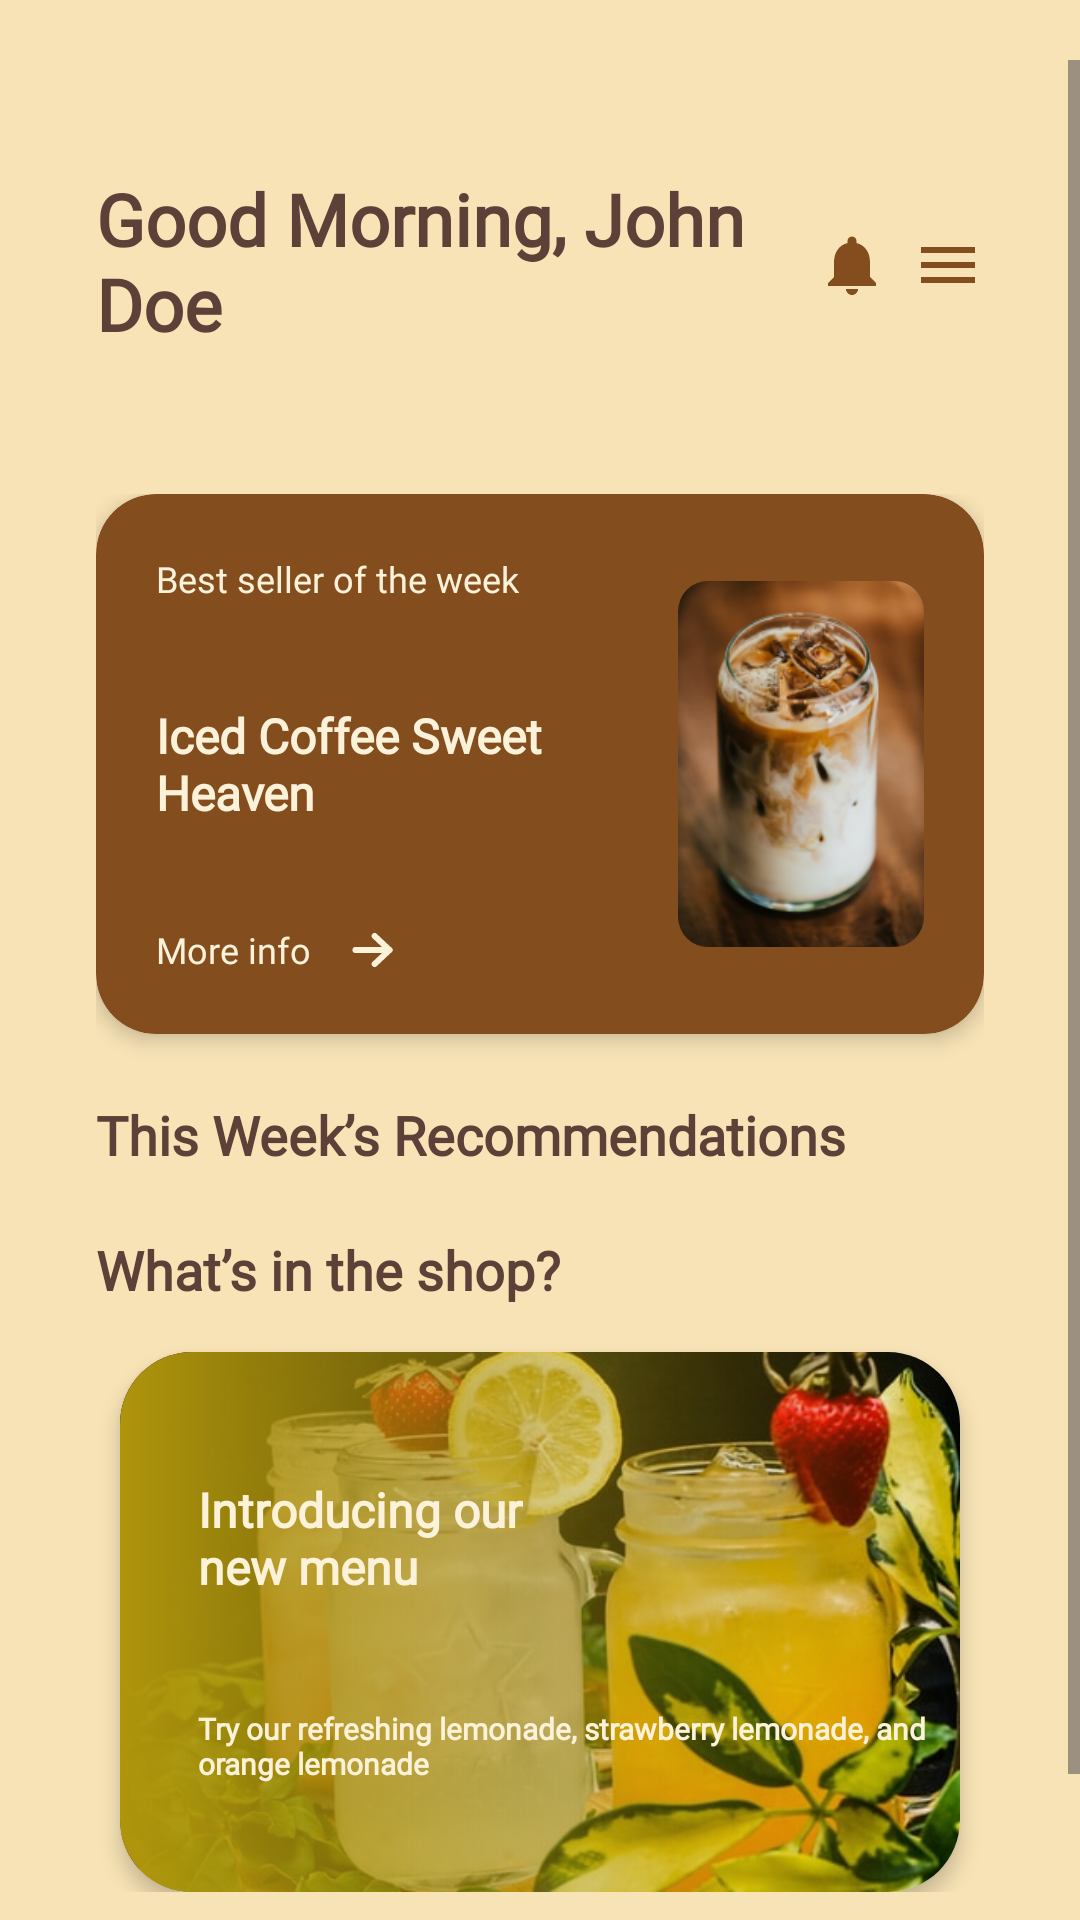

Where to tap for icons on this 1080×1920 app screen, as (x,y):
arrow: (372,950)
Menu: (948,265)
Notifications: (852,265)
